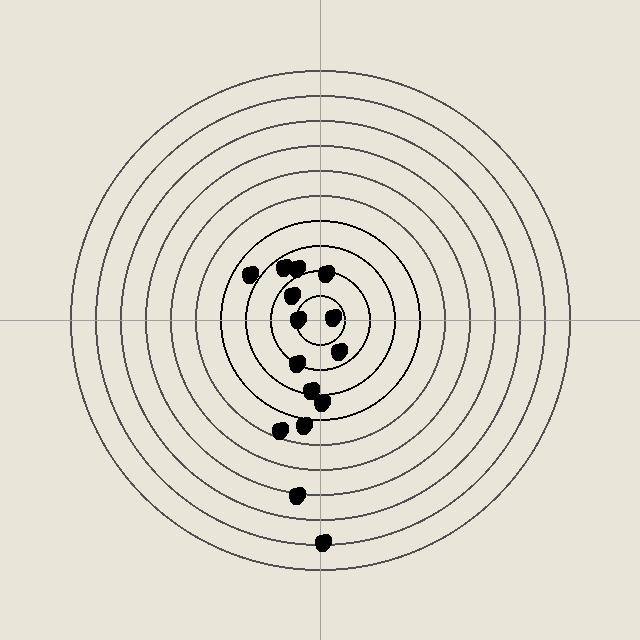vertical_scatter: (293, 415, 313, 435), (239, 264, 259, 284), (286, 353, 306, 373), (286, 485, 306, 505), (328, 341, 348, 361), (300, 380, 320, 400), (312, 532, 332, 552), (286, 258, 306, 278), (315, 263, 335, 283), (311, 392, 331, 412), (322, 307, 342, 327), (273, 257, 293, 277), (287, 309, 307, 329), (269, 420, 289, 440), (281, 285, 301, 305)
